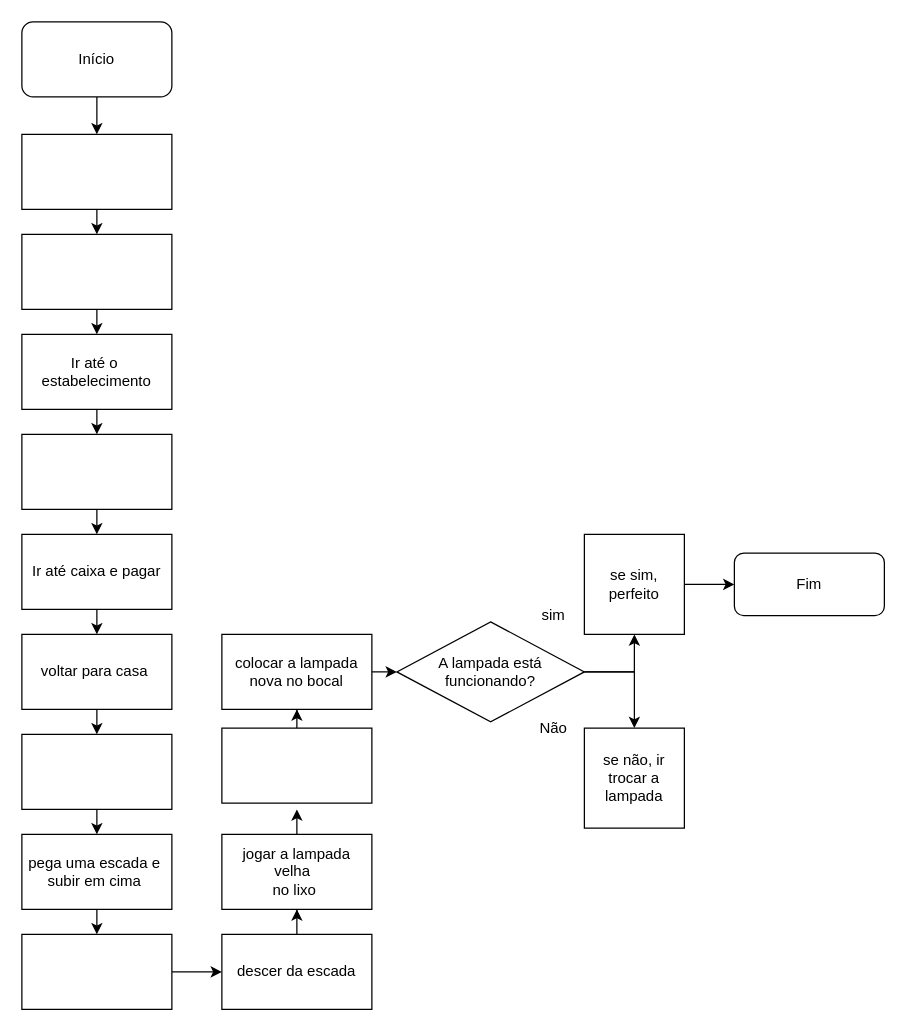
The diagram is 906 pixels wide and 1031 high, and some of its shapes have lost their labels. The shapes that lost their labels are listed below. From the top down, each one's box as (x1, y1, x2, y2) in pixels, then its label:
(21, 133, 172, 209): Pegar a carteira com o dinheiro
(21, 233, 172, 309): Sair de casa
(21, 433, 172, 509): Pegar a lampada na prateleira
(21, 733, 172, 809): colocar a sacola com a lampada em cima da mesa
(221, 727, 372, 803): subir na escada
(21, 933, 172, 1009): retirar a lampada queimada
